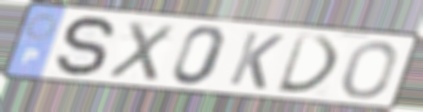0: (170, 24, 230, 87)
D: (274, 31, 343, 95)
K: (226, 29, 287, 92)
O: (339, 40, 400, 101)
S: (53, 14, 119, 79)
X: (104, 19, 177, 84)
